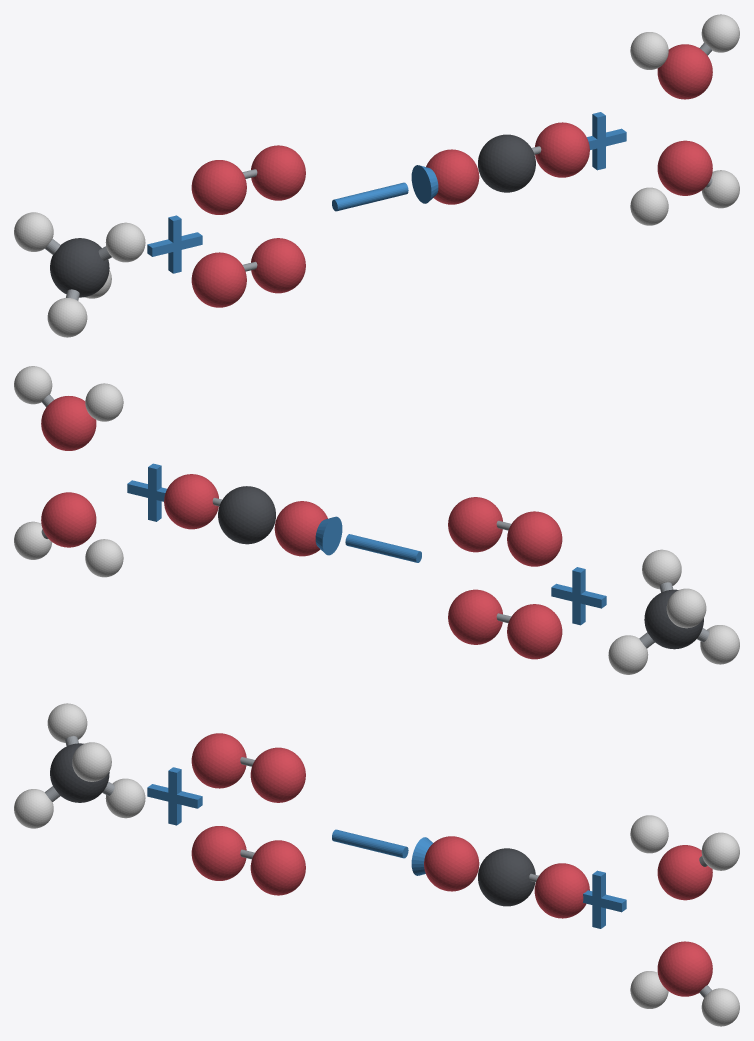
File: 01-reacao-quimica.glb
3 renders of one model, top to bottom at view 1: azimuth 30°, elevation 25°; view 2: azimuth 150°, elevation 25°; view 3: azimuth 330°, elevation 25°, orthographic.
Parts seen in each view (by area): view 1: world, CO2_C, CH4_C, O2BO1, O2AO1, WBO, O2AO2, O2BO2, CO2_O2, WAO, CO2_O1, CH4_H0 (+7 smaller); view 2: world, CO2_C, WBO, O2BO1, O2AO1, O2AO2, CO2_O2, O2BO2, WAO, CO2_O1, CH4_C, CH4_H2 (+8 smaller); view 3: world, CO2_C, O2AO2, O2BO2, CO2_O1, WBO, O2AO1, O2BO1, CO2_O2, WAO, CH4_C, CH4_H0 (+8 smaller).
Boxes of the visible parts, x1,y1,x2,y2 form: world: (147,112,626,273); CO2_C: (478,134,535,192); CH4_C: (50,238,109,297); O2BO1: (191,252,246,307); O2AO1: (191,160,246,214); WBO: (657,140,712,195); O2AO2: (251,145,305,200); O2BO2: (251,238,305,293); CO2_O2: (535,122,589,177); WAO: (657,44,712,99); CO2_O1: (426,149,479,204); CH4_H0: (105,222,145,262); world: (127,463,606,625); CO2_C: (218,486,275,544); WBO: (41,492,96,547); O2BO1: (507,604,562,659); O2AO1: (507,511,562,566); O2AO2: (448,497,502,552); CO2_O2: (164,474,218,529); O2BO2: (448,589,502,644); WAO: (41,396,96,450); CO2_O1: (274,501,327,556); CH4_C: (644,589,703,649); CH4_H2: (666,588,706,628); world: (147,767,626,928); CO2_C: (478,848,535,906); O2AO2: (250,747,305,802); O2BO2: (250,840,305,895); CO2_O1: (424,836,479,891); WBO: (657,941,712,996); O2AO1: (191,733,246,788); O2BO1: (191,826,246,880); CO2_O2: (534,863,589,918); WAO: (657,845,712,900); CH4_C: (50,743,109,802); CH4_H0: (72,742,111,781).
Size of the model in its own units: 11.45 by 2.96 by 1.51.
